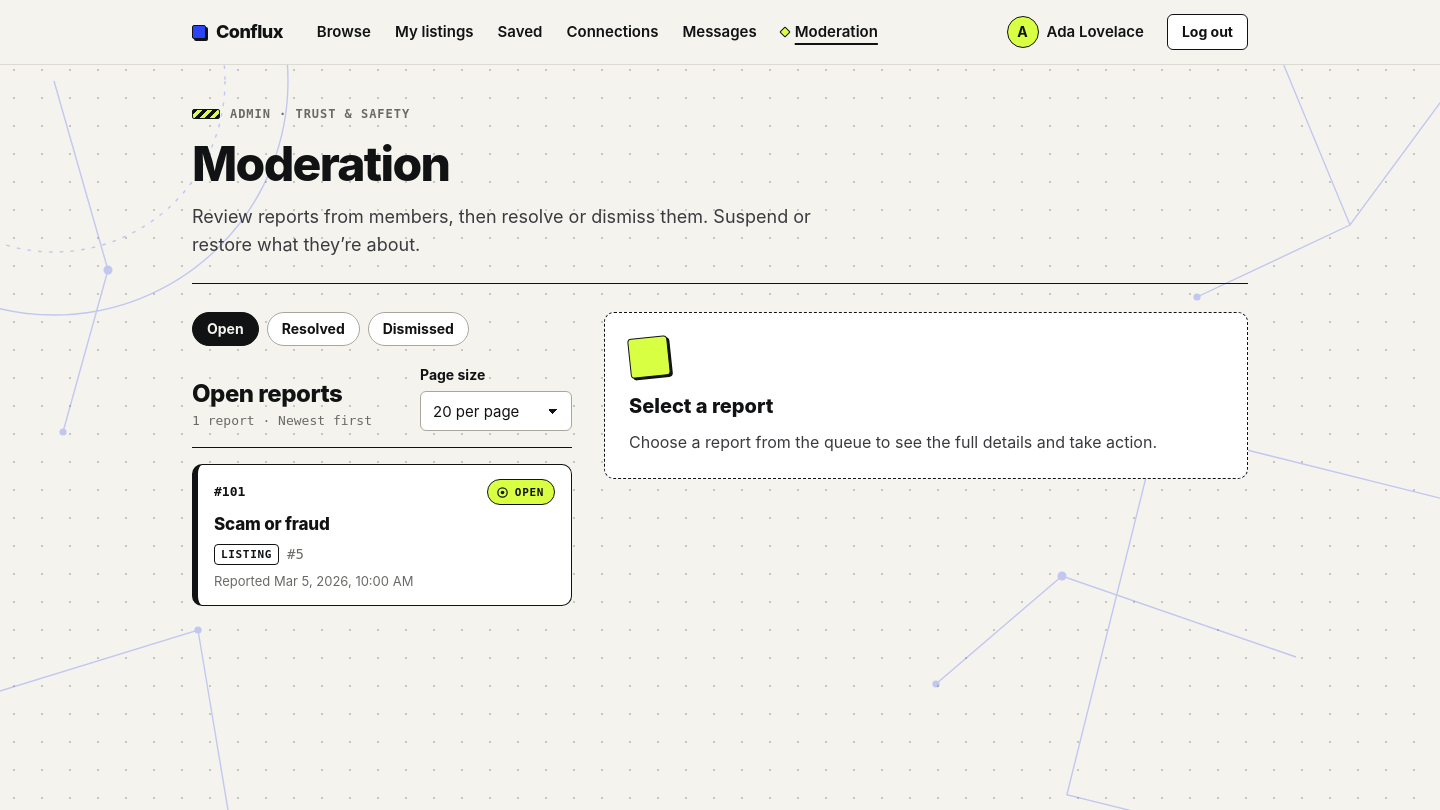
Test: Report queue › filters by status through the URL and offers a way back from an empty filter
Expected: the link with aria-label "Report #101" is shown, [192, 464, 572, 606]
Click the link "Dismissed": (418, 329) [368, 312, 469, 346]
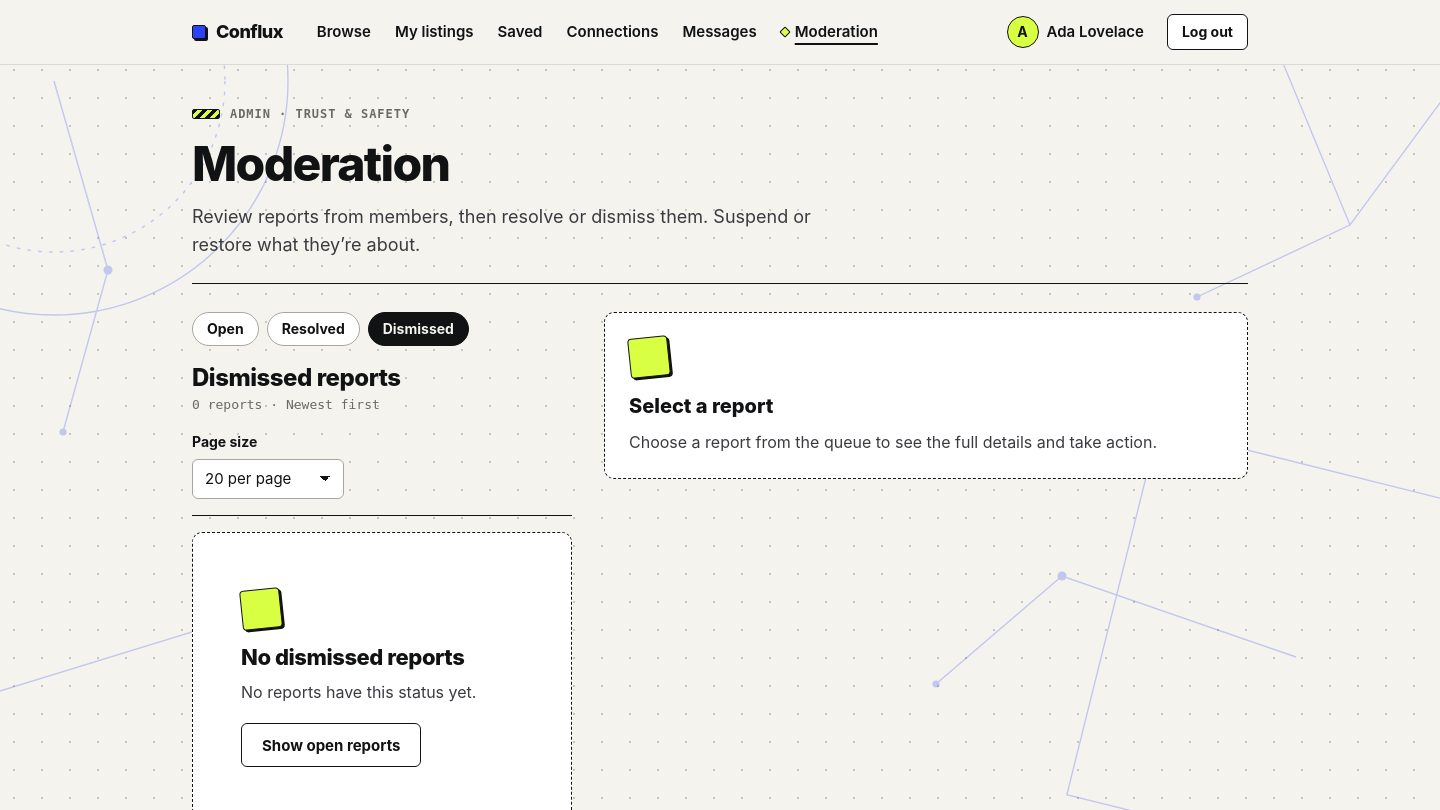
Expected: the heading "No dismissed reports" is shown, [241, 645, 464, 670]
Click the link "Show open reports": (331, 745) [241, 723, 422, 767]
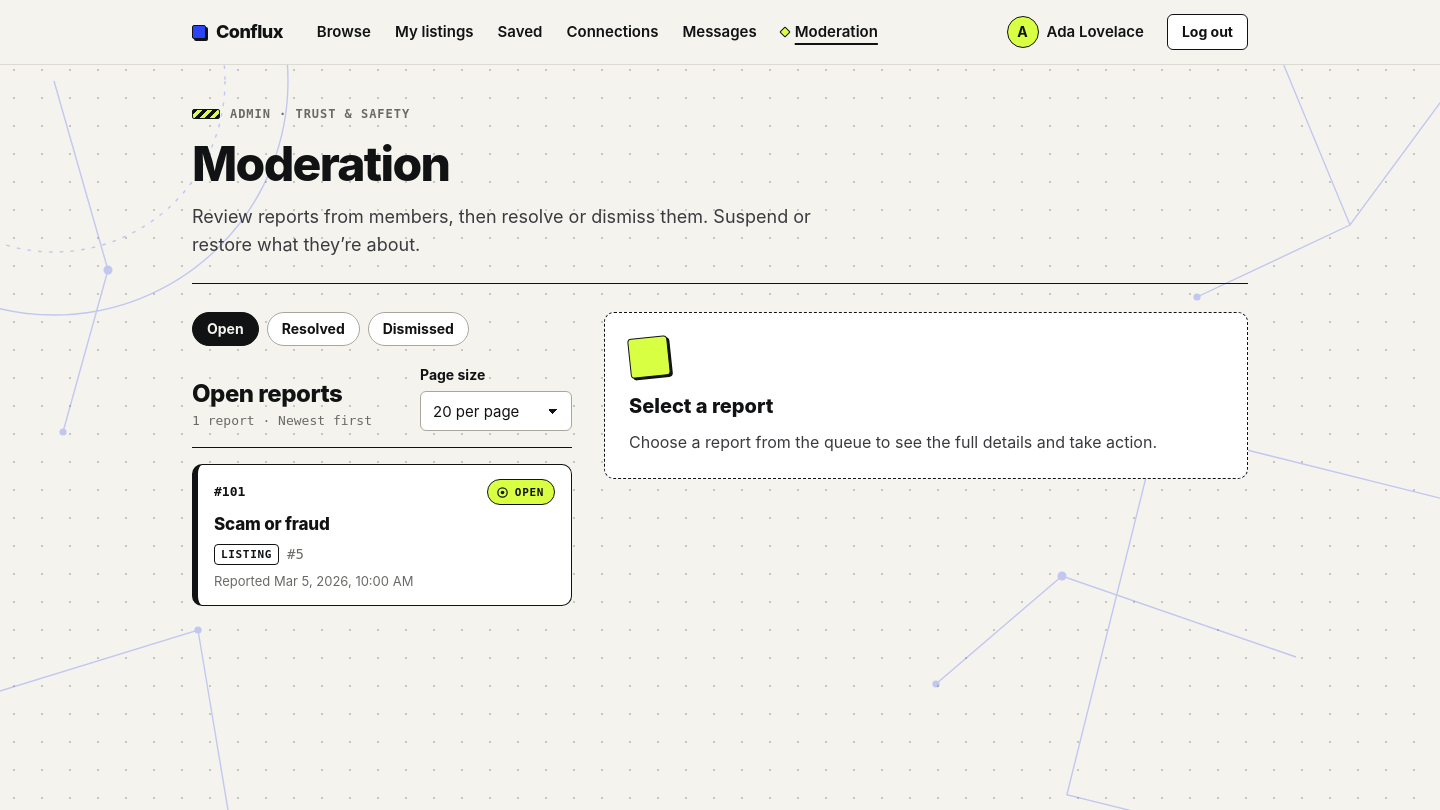
Expected: the link with aria-label "Report #101" is shown, [192, 464, 572, 606]
